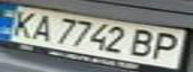2: (106, 24, 133, 55)
4: (87, 20, 112, 52)
7: (48, 15, 78, 46), (69, 17, 93, 48)
A: (24, 11, 57, 43)
B: (124, 27, 163, 58)
K: (0, 8, 42, 38)
P: (145, 29, 190, 62)
